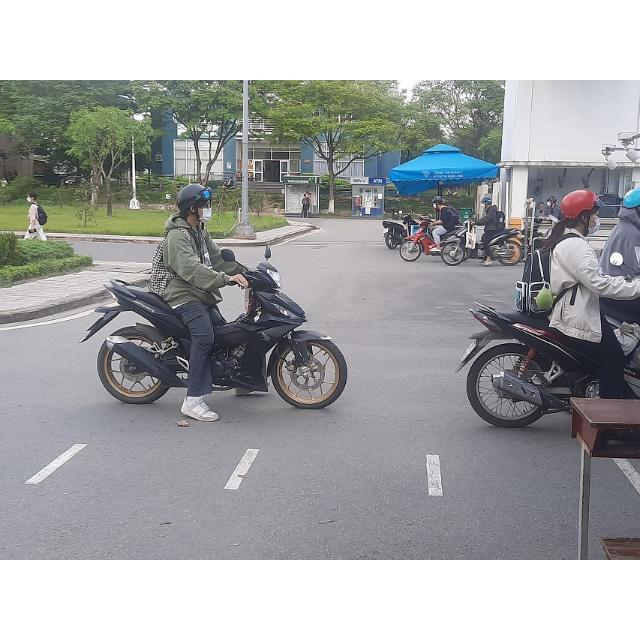Helmet: (173, 181, 214, 225)
